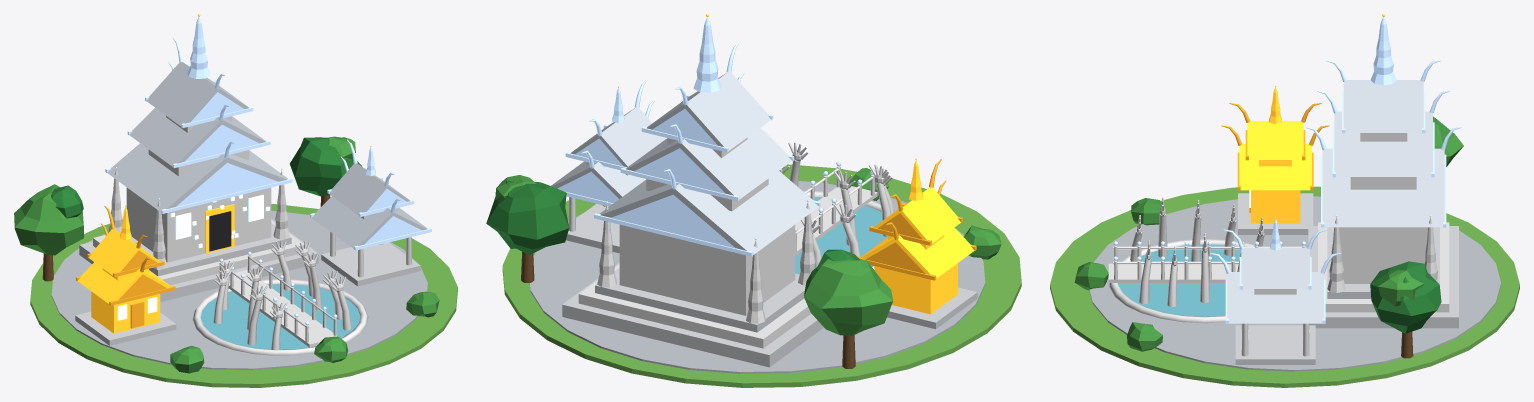
Rendered from loc_whitetemple.glb.
The picture shows the model from 3 angles, left to right: view 1: azimuth 30°, elevation 25°; view 2: azimuth 150°, elevation 25°; view 3: azimuth 270°, elevation 25°; orthographic projection. The views are drawn at different scales.
Parts seen in each view (by area): view 1: Body_White, Body_RoofW, Body_Plaza, Body_Lawn, Body_Silver, Body_Stone, Body_Leaf, Body_Gold, Body_Water, Body_Leaf2, Body_GoldDark, Body_Mirror (+1 smaller); view 2: Body_White, Body_RoofW, Body_Lawn, Body_Plaza, Body_Silver, Body_Stone, Body_Gold, Body_Leaf, Body_Leaf2, Body_GoldDark, Body_Water, Body_Trunk; view 3: Body_RoofW, Body_White, Body_Plaza, Body_Lawn, Body_Stone, Body_Gold, Body_Leaf, Body_Silver, Body_Water, Body_Leaf2, Body_GoldDark.
Part boxes in pixels (x1=…): Body_White: x1=93, y1=116, x2=411, y2=355; Body_RoofW: x1=107, y1=62, x2=427, y2=248; Body_Plaza: x1=51, y1=210, x2=427, y2=369; Body_Lawn: x1=30, y1=204, x2=457, y2=387; Body_Silver: x1=105, y1=17, x2=431, y2=325; Body_Stone: x1=75, y1=219, x2=420, y2=345; Body_Leaf: x1=14, y1=136, x2=439, y2=373; Body_Gold: x1=78, y1=14, x2=371, y2=333; Body_Water: x1=200, y1=284, x2=360, y2=349; Body_Leaf2: x1=51, y1=137, x2=362, y2=218; Body_GoldDark: x1=76, y1=206, x2=175, y2=328; Body_Mirror: x1=117, y1=194, x2=269, y2=320; Body_White: x1=568, y1=137, x2=894, y2=348; Body_RoofW: x1=551, y1=72, x2=818, y2=254; Body_Lawn: x1=502, y1=164, x2=1021, y2=387; Body_Plaza: x1=529, y1=181, x2=985, y2=373; Body_Silver: x1=557, y1=17, x2=873, y2=256; Body_Stone: x1=562, y1=203, x2=977, y2=367; Body_Gold: x1=618, y1=14, x2=974, y2=314; Body_Leaf: x1=495, y1=168, x2=1001, y2=335; Body_Leaf2: x1=486, y1=180, x2=859, y2=270; Body_GoldDark: x1=857, y1=159, x2=976, y2=280; Body_Water: x1=795, y1=197, x2=887, y2=274; Body_Trunk: x1=521, y1=251, x2=855, y2=368; Body_RoofW: x1=1227, y1=80, x2=1444, y2=323; Body_White: x1=1108, y1=133, x2=1449, y2=356; Body_Plaza: x1=1089, y1=196, x2=1500, y2=371; Body_Lawn: x1=1050, y1=186, x2=1519, y2=387; Body_Stone: x1=1235, y1=193, x2=1458, y2=364; Body_Gold: x1=1239, y1=14, x2=1384, y2=223; Body_Leaf: x1=1074, y1=116, x2=1463, y2=351; Body_Silver: x1=1114, y1=17, x2=1461, y2=323; Body_Water: x1=1118, y1=244, x2=1241, y2=316; Body_Leaf2: x1=1370, y1=261, x2=1441, y2=333; Body_GoldDark: x1=1221, y1=103, x2=1329, y2=212.
Size of the model in its own units: 10 by 6.46 by 10.
